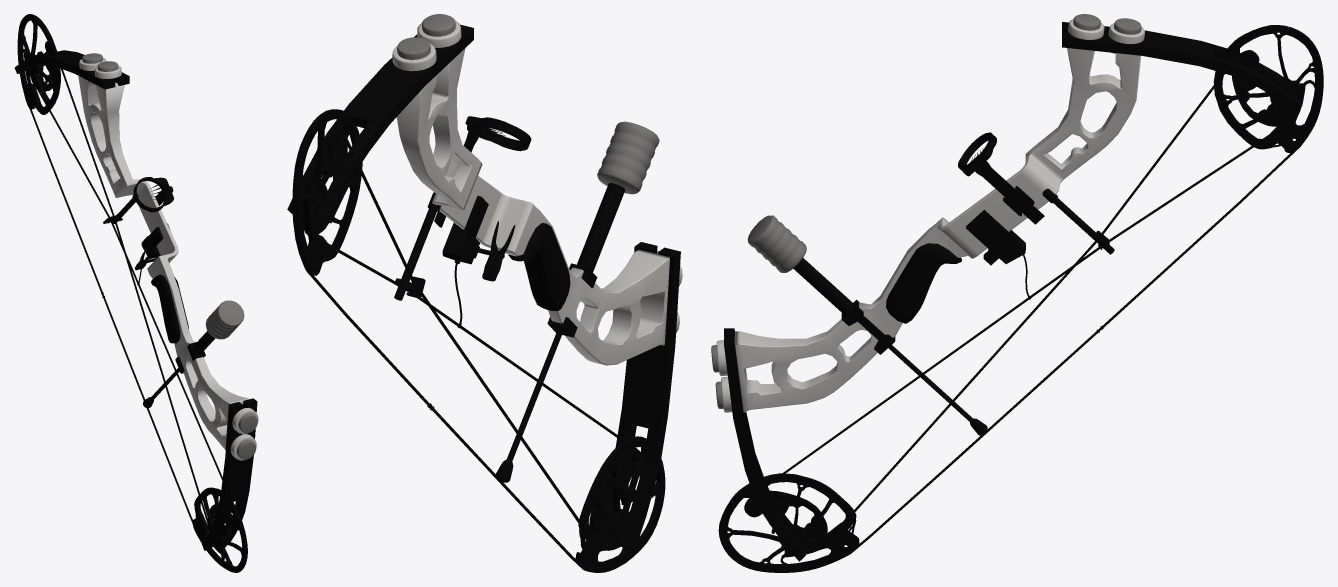
The model's file is compound.glb.
3 renders of one model, left to right at view 1: azimuth 30°, elevation 25°; view 2: azimuth 150°, elevation 25°; view 3: azimuth 270°, elevation 25°, orthographic. The views are drawn at different scales.
Visible parts, largest first — view 1: compoundBow; view 2: compoundBow; view 3: compoundBow.
Part boxes in pixels (x1=…): compoundBow: x1=14, y1=14, x2=258, y2=572; compoundBow: x1=287, y1=14, x2=682, y2=572; compoundBow: x1=711, y1=14, x2=1323, y2=572.
Bounding box in the file's own units: 0.6271 × 6.99 × 6.99.
1 material, 1 textured.
